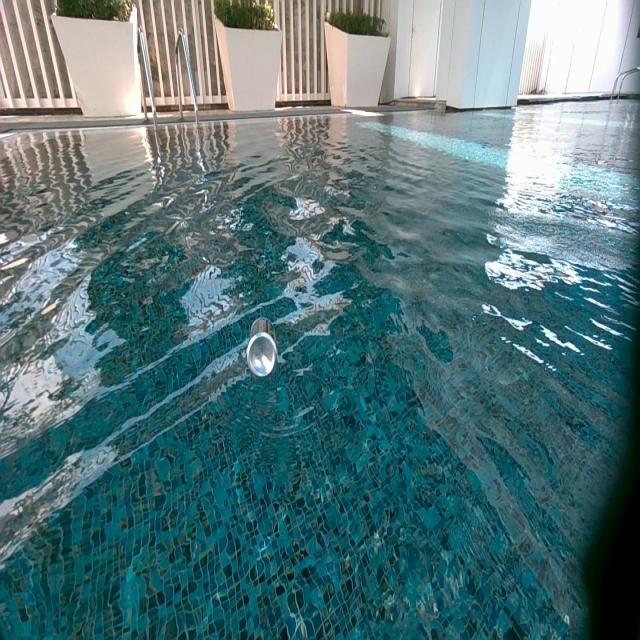Cans: (248, 318, 278, 379)
